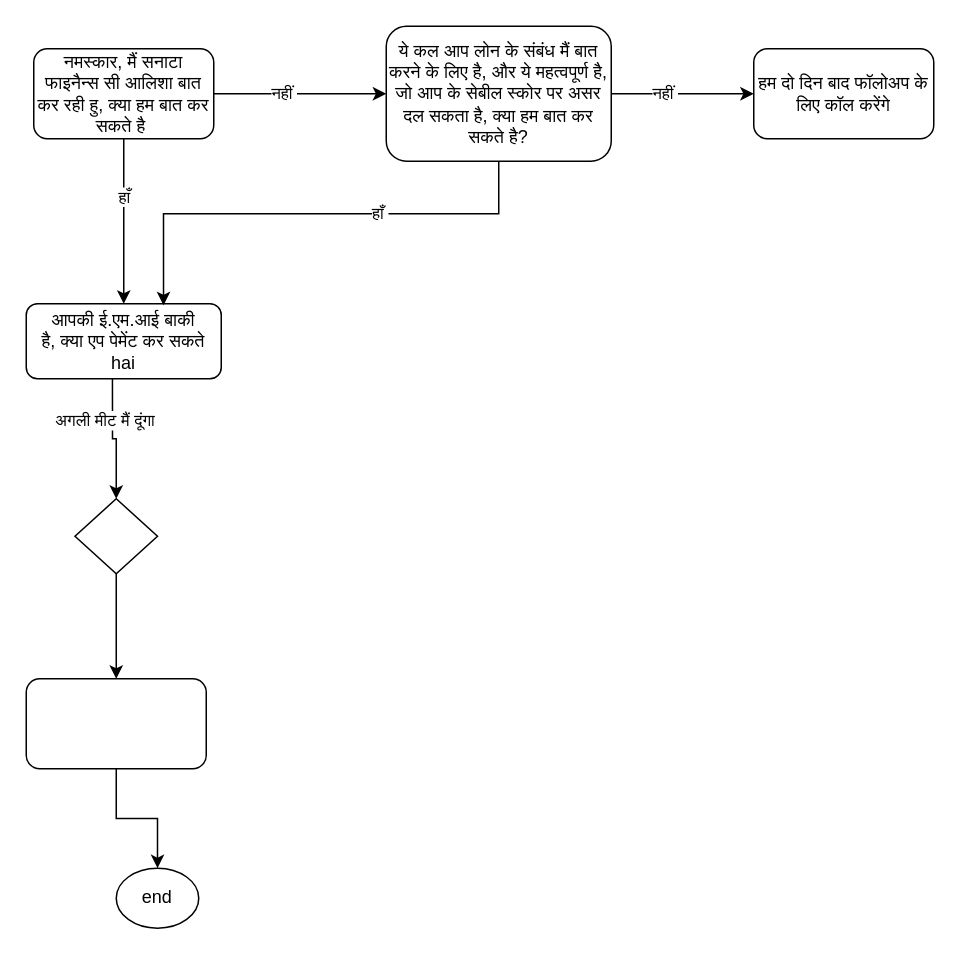
This 960x956 diagram has some shape labels left out. Here are the shapes that lost their labels. From the top down, the centre of each, then its label:
At (116,535): "meet date".
At (115,723): "पुरा पेमेंट देने के लिए तैयार रहे। धन्यवाद".
